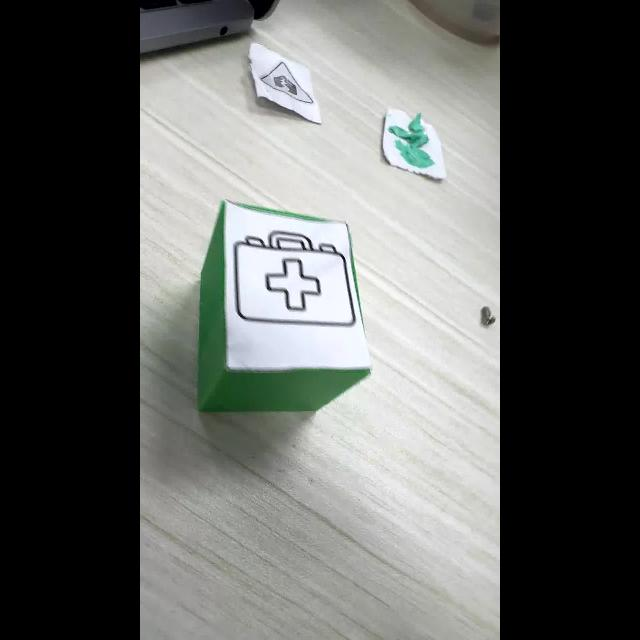Medkit: (234, 231, 357, 327)
